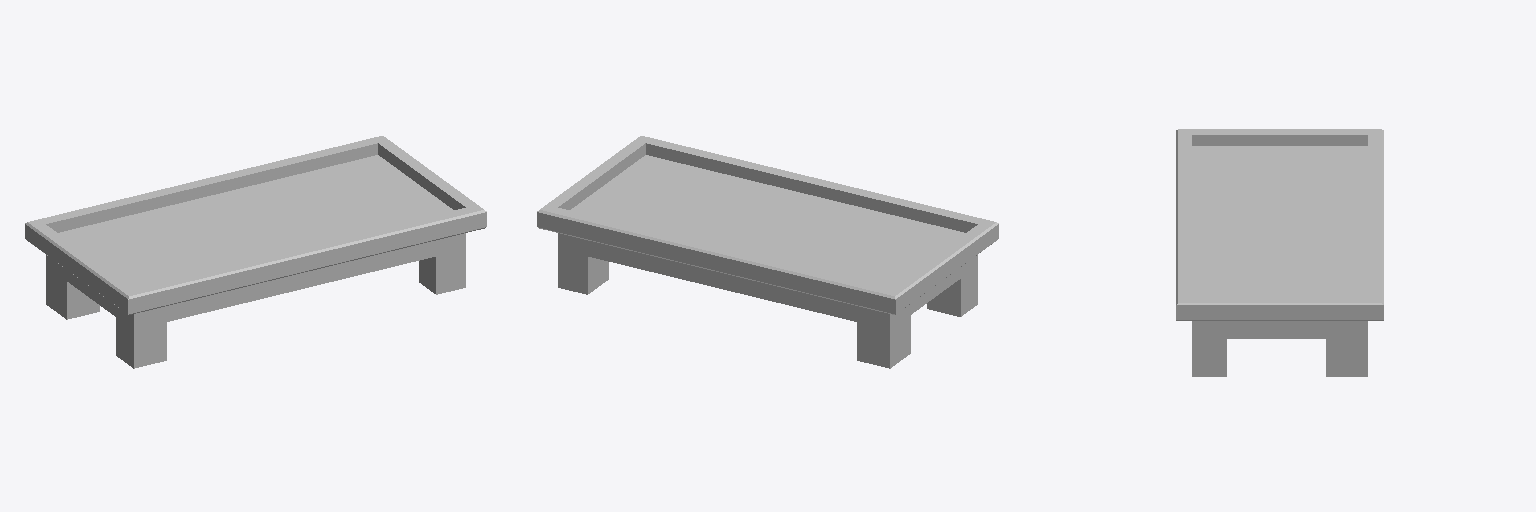
The model's file is table.obj.
3 renders of one model, left to right at view 1: azimuth 30°, elevation 25°; view 2: azimuth 150°, elevation 25°; view 3: azimuth 270°, elevation 25°, orthographic.
Bounding box in the file's own units: 10 × 2.13 × 5.